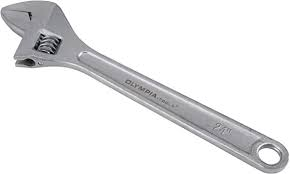wrench: (1, 1, 290, 173)
